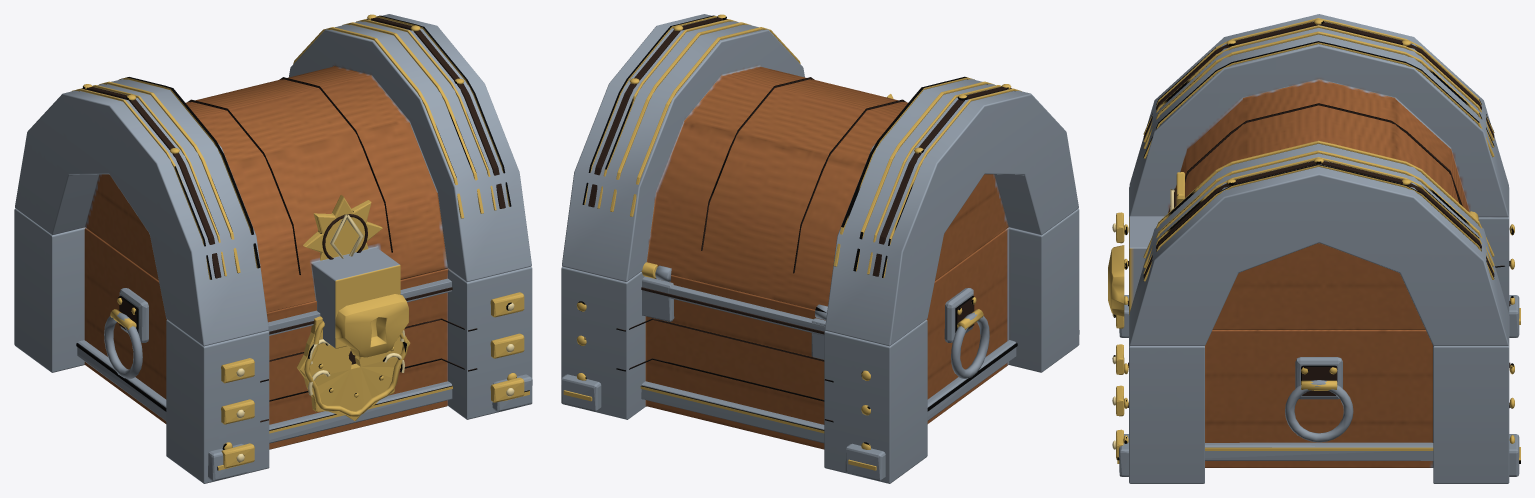
The model's file is gilded-waywatch.glb.
3 views of the same model, side by side, from view 1: azimuth 30°, elevation 25°; view 2: azimuth 150°, elevation 25°; view 3: azimuth 270°, elevation 25° (orthographic).
Visible parts, largest first — view 1: LidShell, Body; view 2: LidShell, Body; view 3: LidShell, Body.
Boxes of the visible parts, x1,y1,x2,y2 form: LidShell: (15, 14, 531, 357); Body: (14, 208, 532, 483); LidShell: (562, 14, 1078, 346); Body: (561, 208, 1079, 483); LidShell: (1108, 14, 1508, 345); Body: (1112, 187, 1520, 483).
Bounding box in the file's own units: 2 × 1.83 × 2.17.
1 material, 1 textured.
